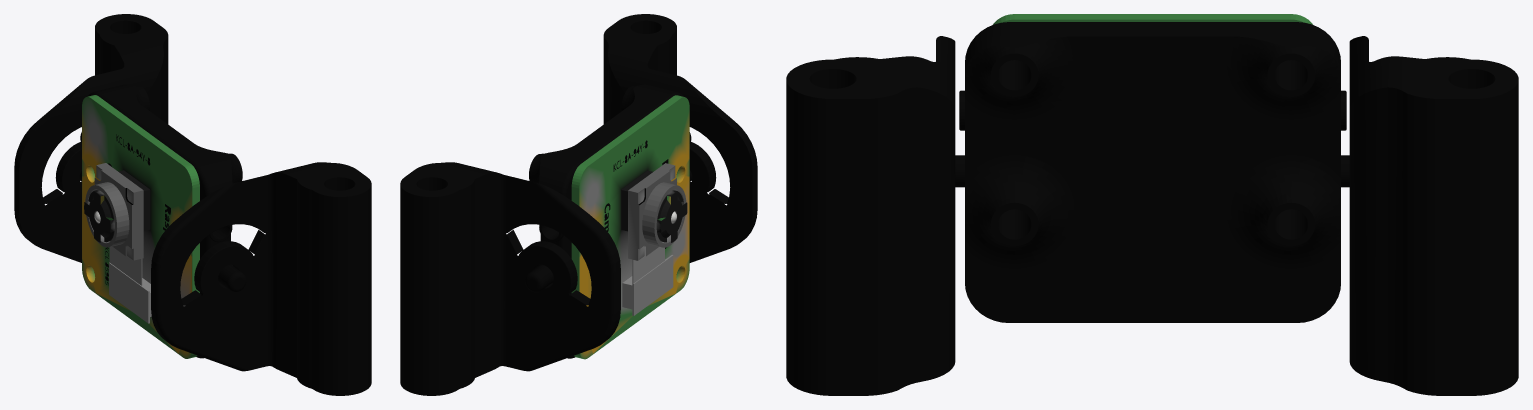
File: camera.glb
3 renders of one model, left to right at view 1: azimuth 30°, elevation 25°; view 2: azimuth 150°, elevation 25°; view 3: azimuth 270°, elevation 25°, orthographic. The views are drawn at different scales.
Parts seen in each view (by area): view 1: world; view 2: world; view 3: world.
Boxes of the visible parts, <box> form: world: <box>14,14,371,395</box>; world: <box>400,14,757,395</box>; world: <box>786,14,1518,395</box>.
Size of the model in its own units: 0.0229 by 0.0249 by 0.0556.
